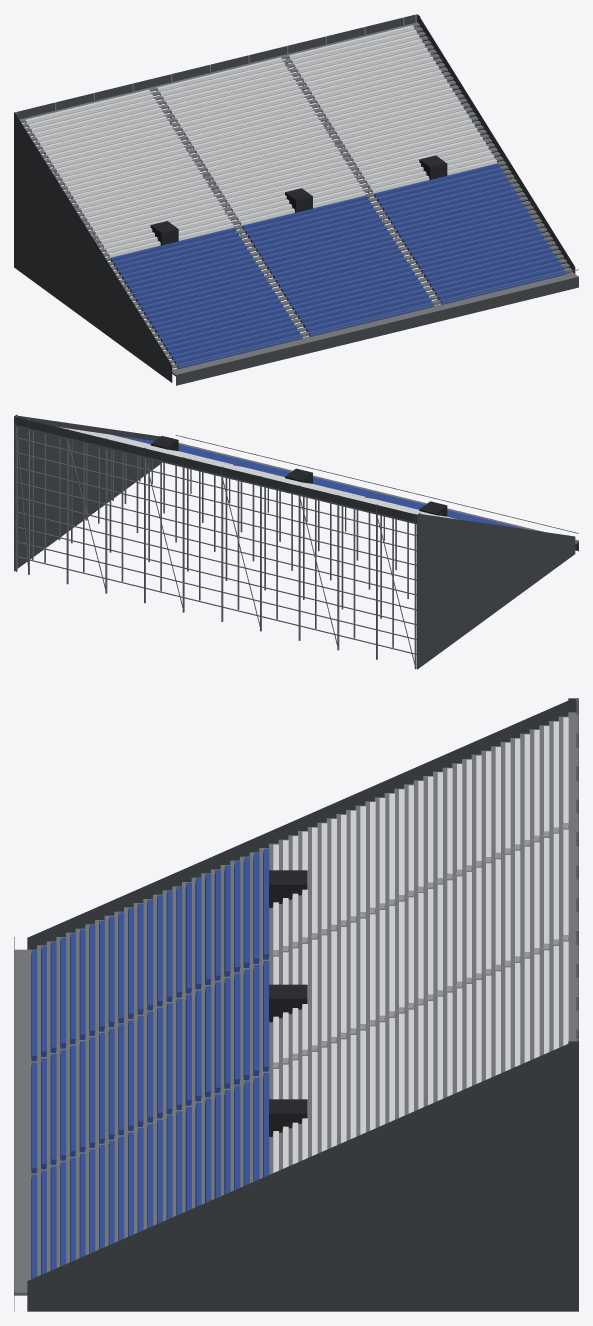
File: rbr_open_mitte_abc.glb
3 views of the same model, one above another, from view 1: azimuth 30°, elevation 25°; view 2: azimuth 150°, elevation 25°; view 3: azimuth 270°, elevation 25° (orthographic). The views are drawn at different scales.
Parts seen in each view (by area): view 1: red-bull-ring-mitte-abc; view 2: red-bull-ring-mitte-abc; view 3: red-bull-ring-mitte-abc.
Boxes of the visible parts, x1,y1,x2,y2 form: red-bull-ring-mitte-abc: (14,14,578,385); red-bull-ring-mitte-abc: (14,414,578,669); red-bull-ring-mitte-abc: (14,698,578,1311).
Bounding box in the file's own units: 62.58 × 22.96 × 43.51.
